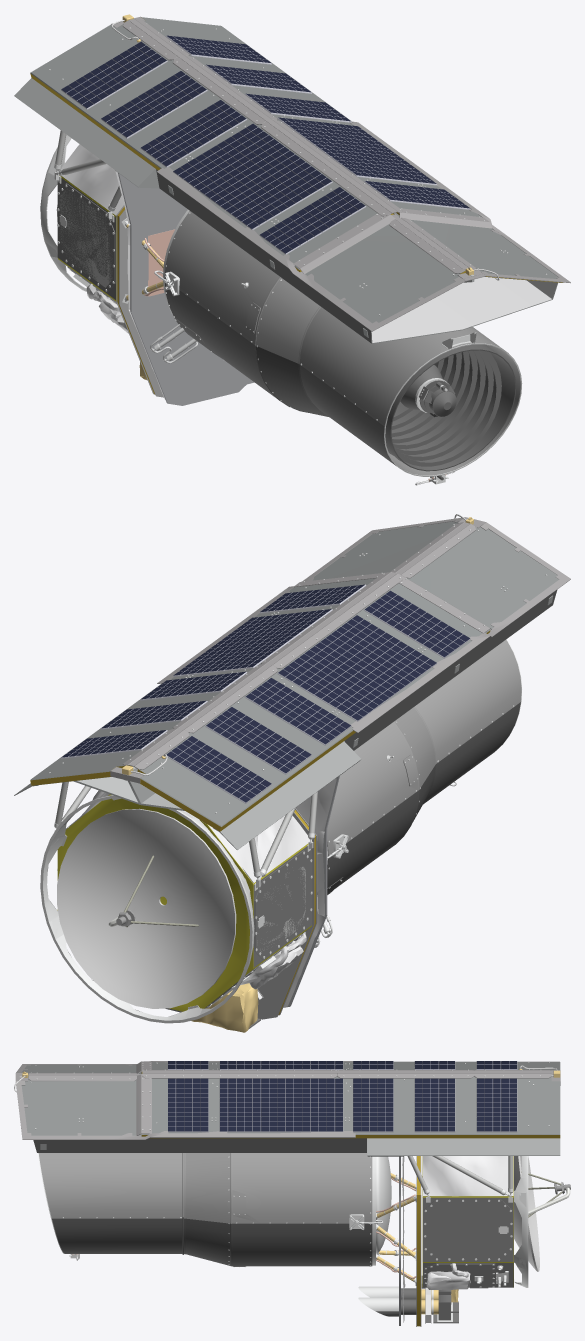
File: spitzer_lod0.glb
3 renders of one model, top to bottom at view 1: azimuth 30°, elevation 25°; view 2: azimuth 150°, elevation 25°; view 3: azimuth 270°, elevation 25°, orthographic. The views are drawn at different scales.
Visible parts, largest first — view 1: spitzer_lod0; view 2: spitzer_lod0; view 3: spitzer_lod0.
Part boxes in pixels (<box>): spitzer_lod0: <box>14,14,570,485</box>; spitzer_lod0: <box>14,514,570,1032</box>; spitzer_lod0: <box>14,1061,570,1326</box>.
Bounding box in the file's own units: 1.57 × 2.05 × 4.36.
